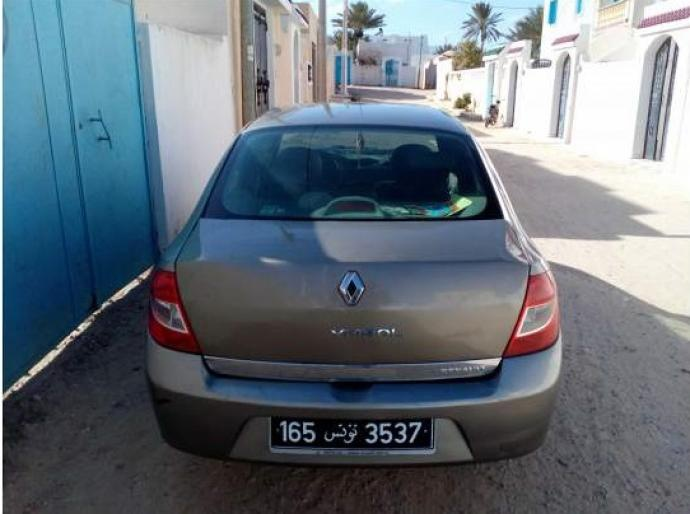LP: (266, 412, 438, 455)
